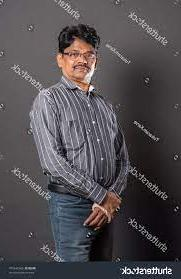Human: (34, 15, 138, 267)
